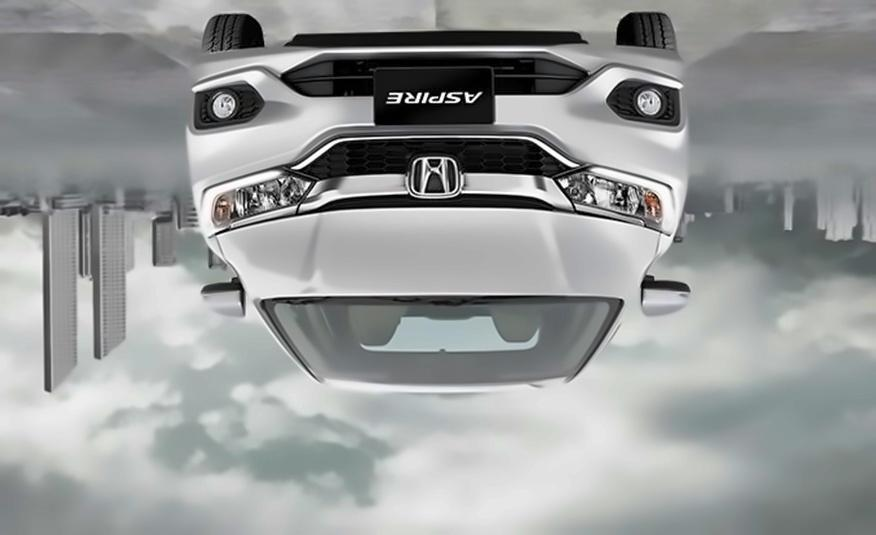Car hood: (213, 202, 659, 301)
Front bumper: (182, 37, 707, 179)
Headlight - -L-: (195, 161, 322, 241)
Headlight - -R-: (551, 161, 681, 239)
Side mirror - -L-: (194, 278, 253, 324)
Side mirror - -R-: (634, 274, 697, 324)
